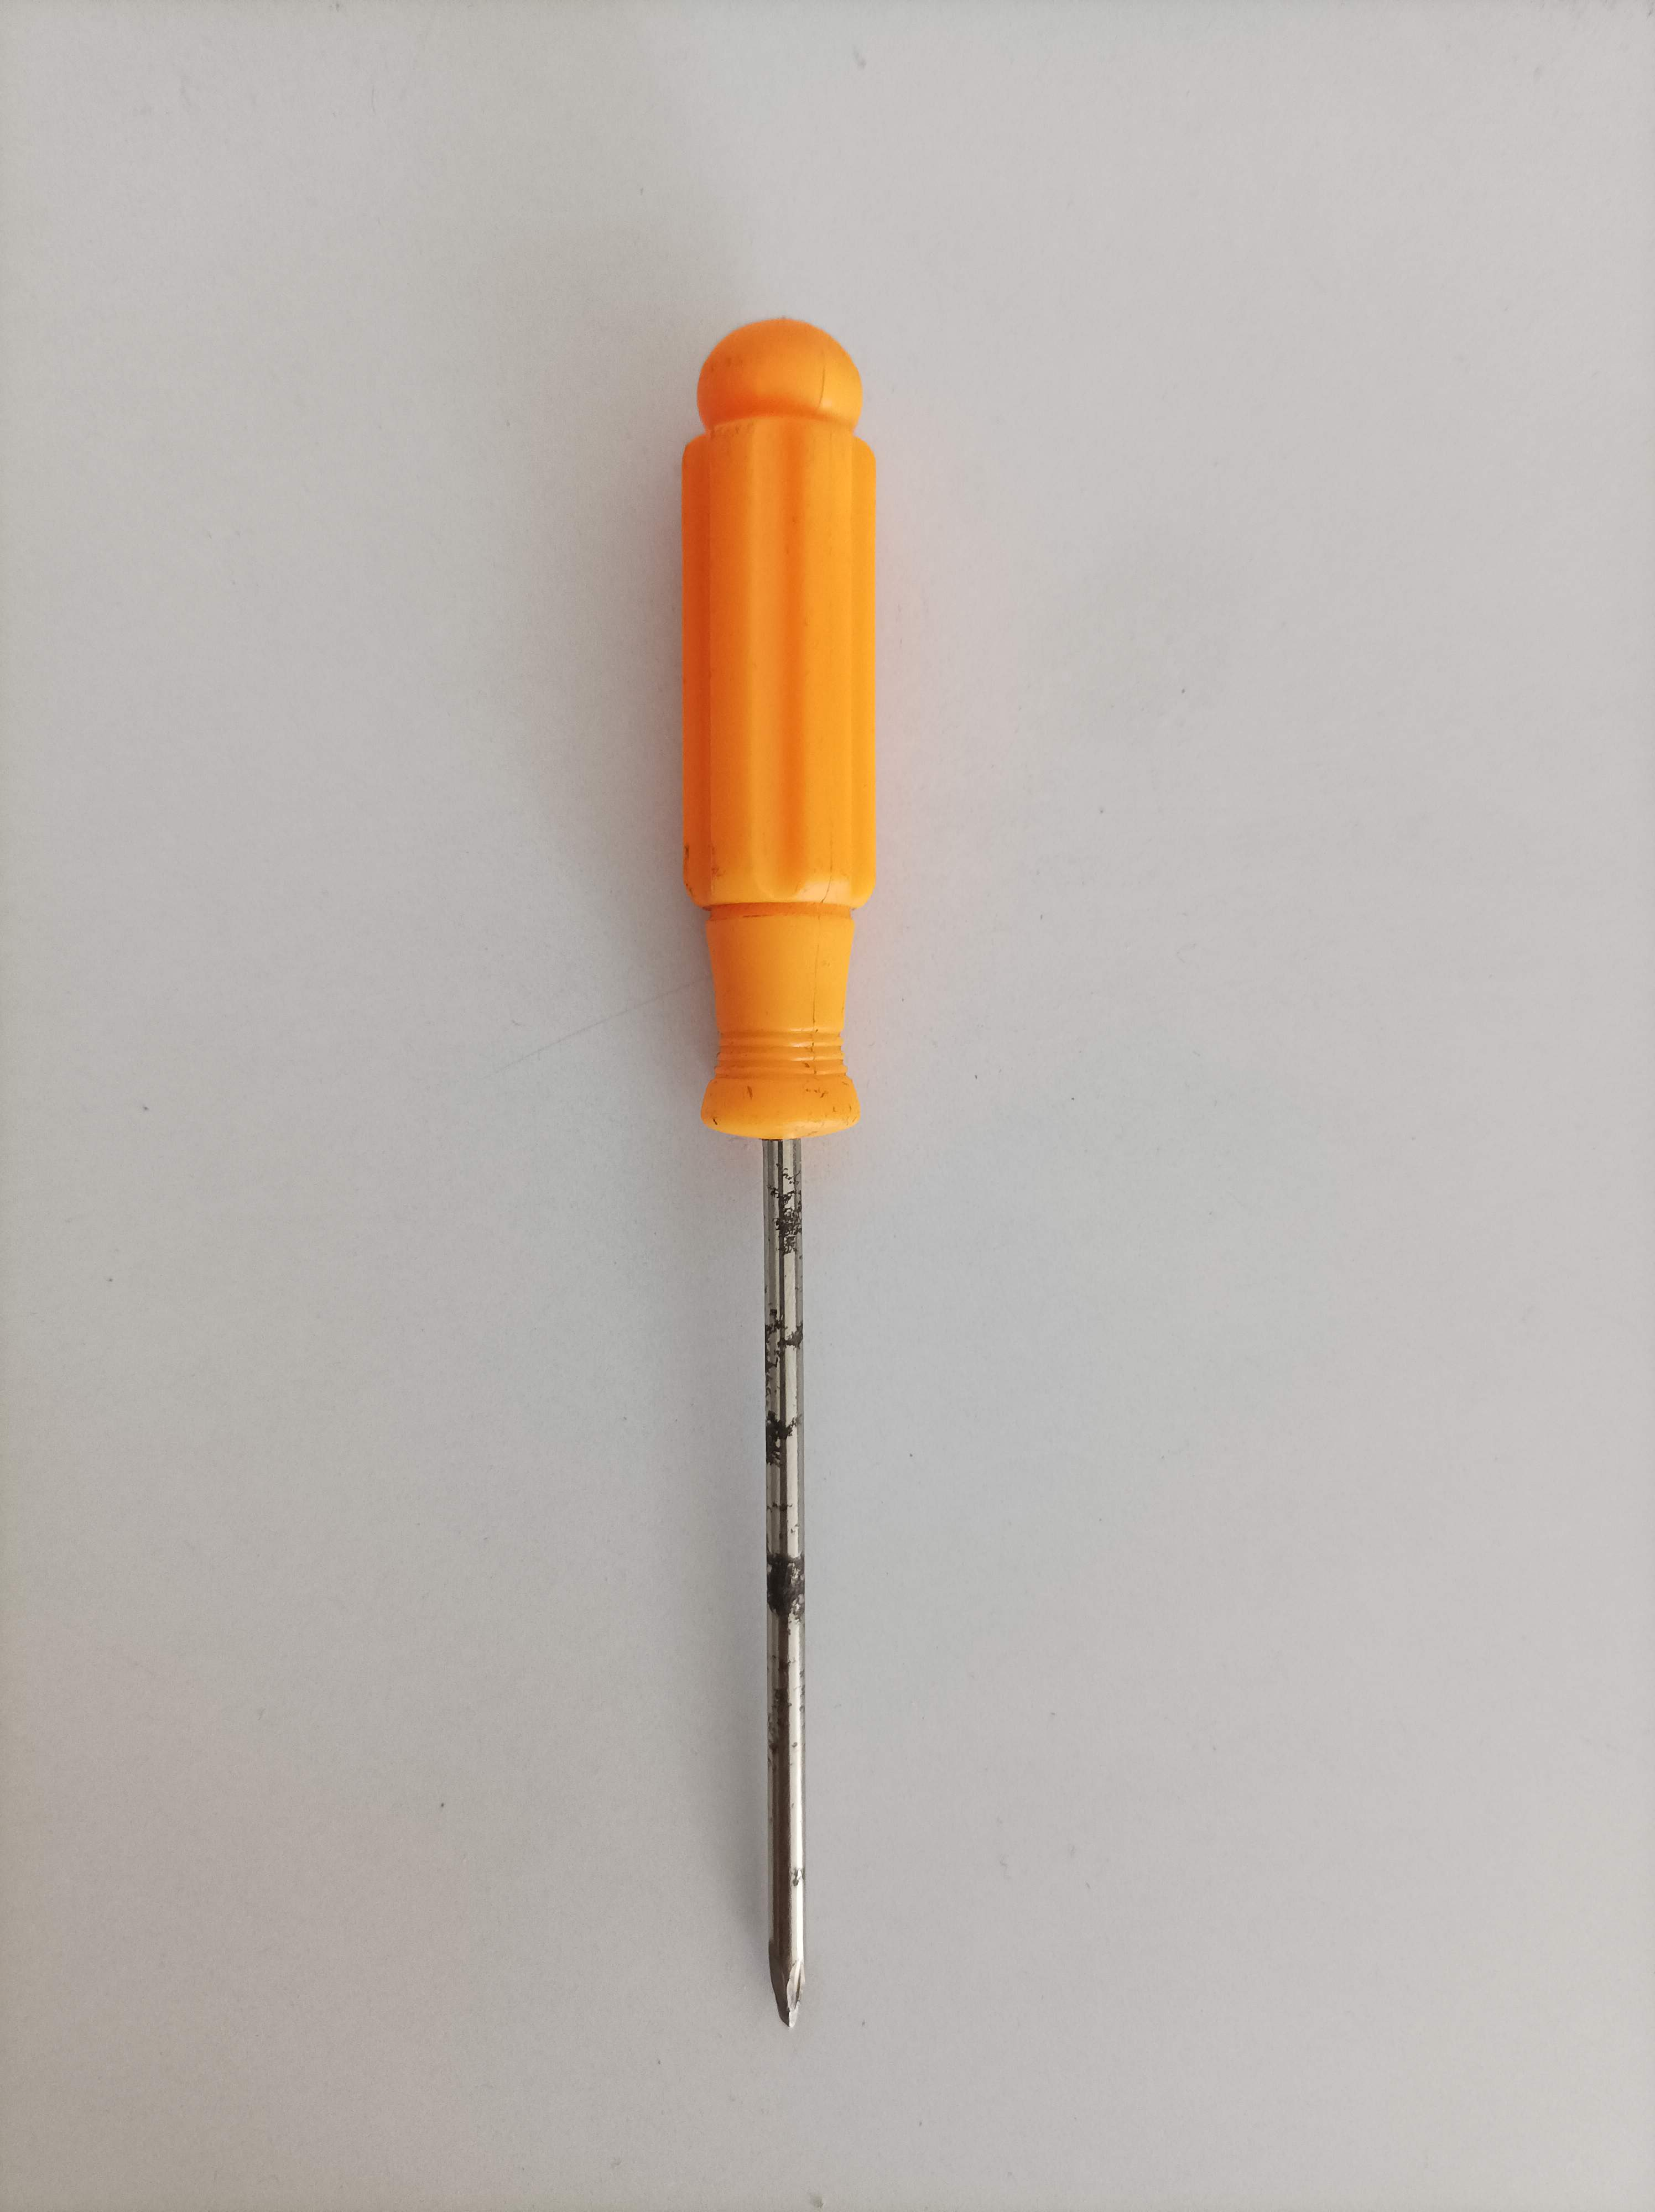screwdriver: (654, 304, 894, 2043)
